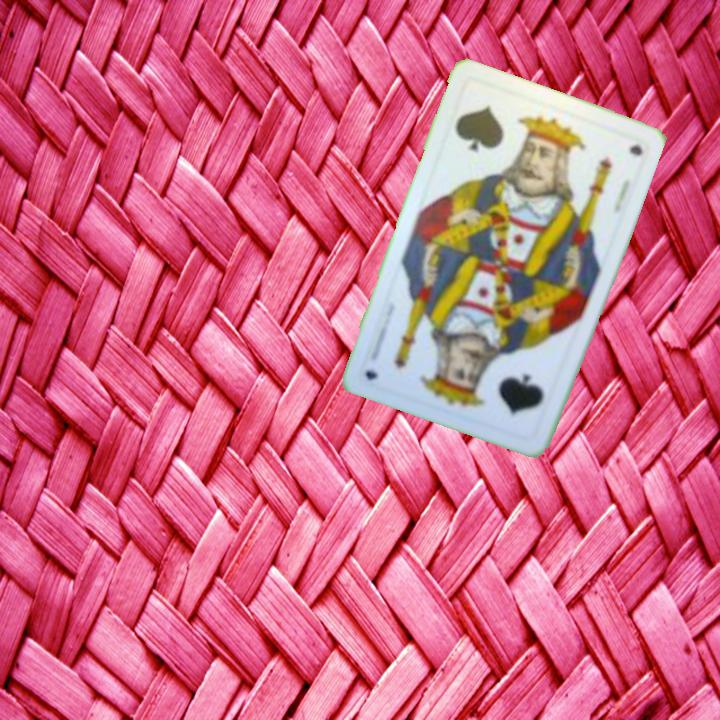s_k.png: (446, 330, 568, 443), (438, 76, 559, 189)
